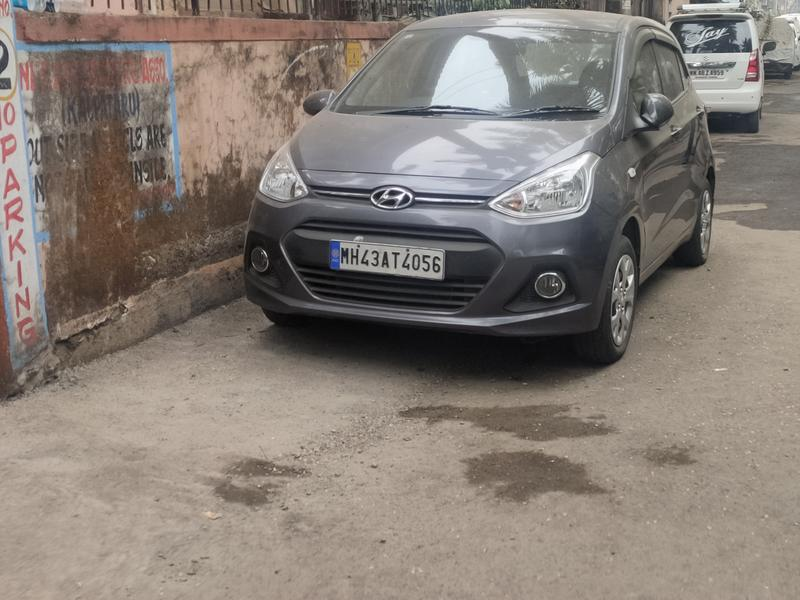license_plate: (324, 235, 447, 292)
